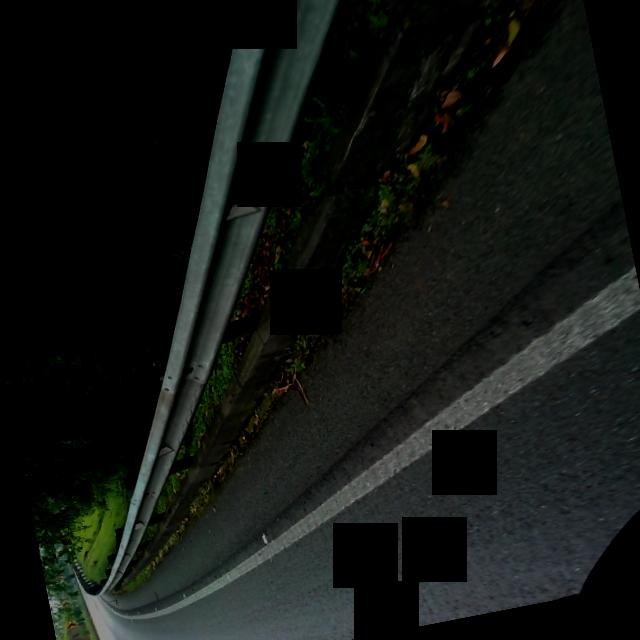DITCH: (0, 0, 640, 640), (0, 0, 640, 620), (1, 0, 640, 615)
